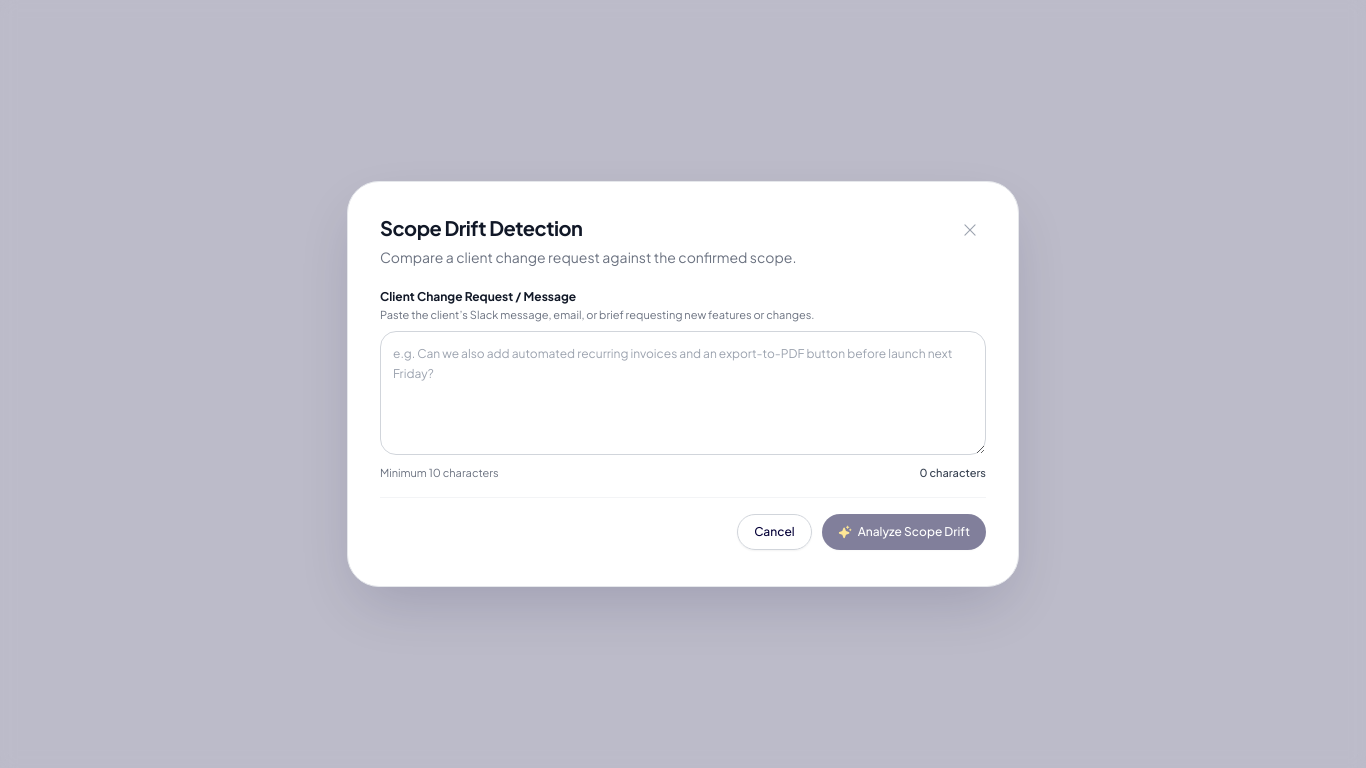
Test: DriftAnalysisModal › renders results with negotiation recommendation and confidence score
Type "Can we add automated recurring invoices and payment switcher?" into the text box.
click(683, 393); type("Can we add automated recurring invoices and payment switcher?")  # box [380,331,986,455]
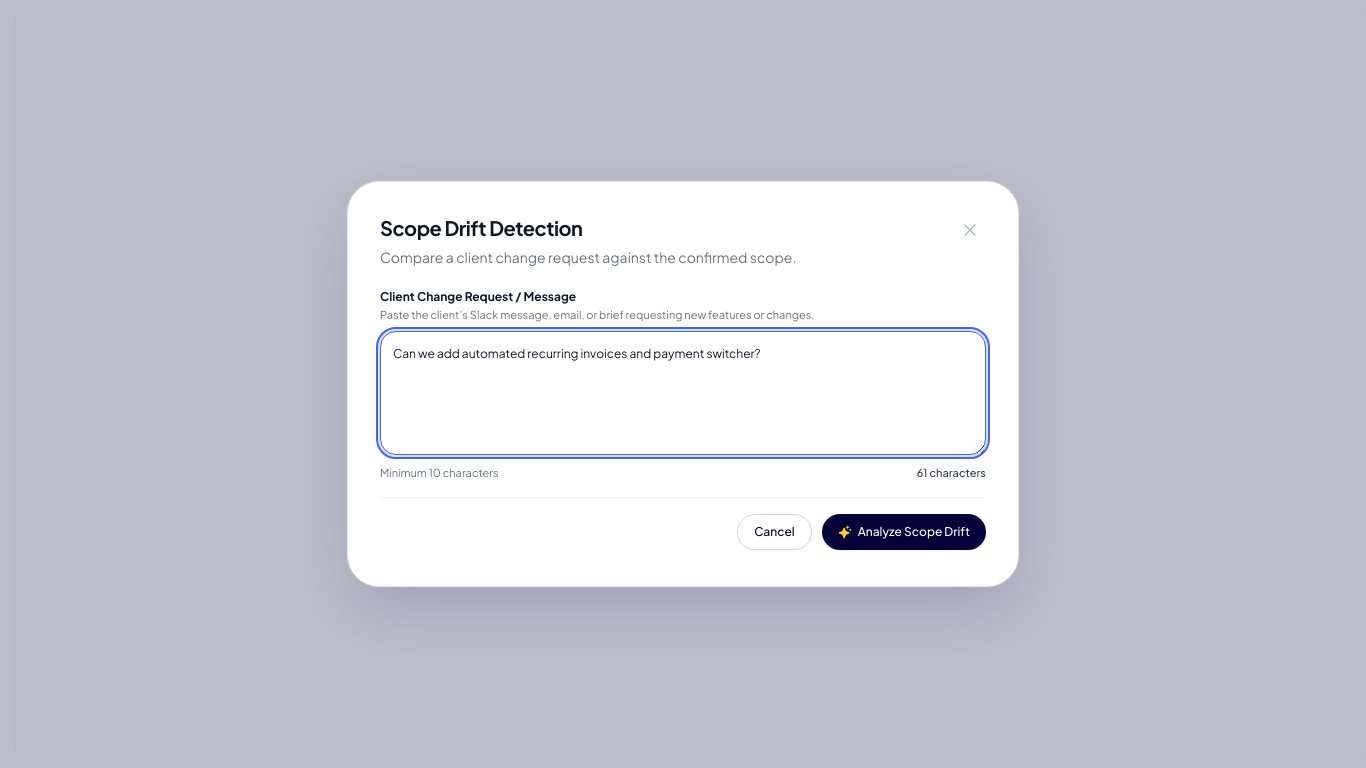
Click the button "Analyze Scope Drift".
click(904, 532)  # box [822,514,986,550]
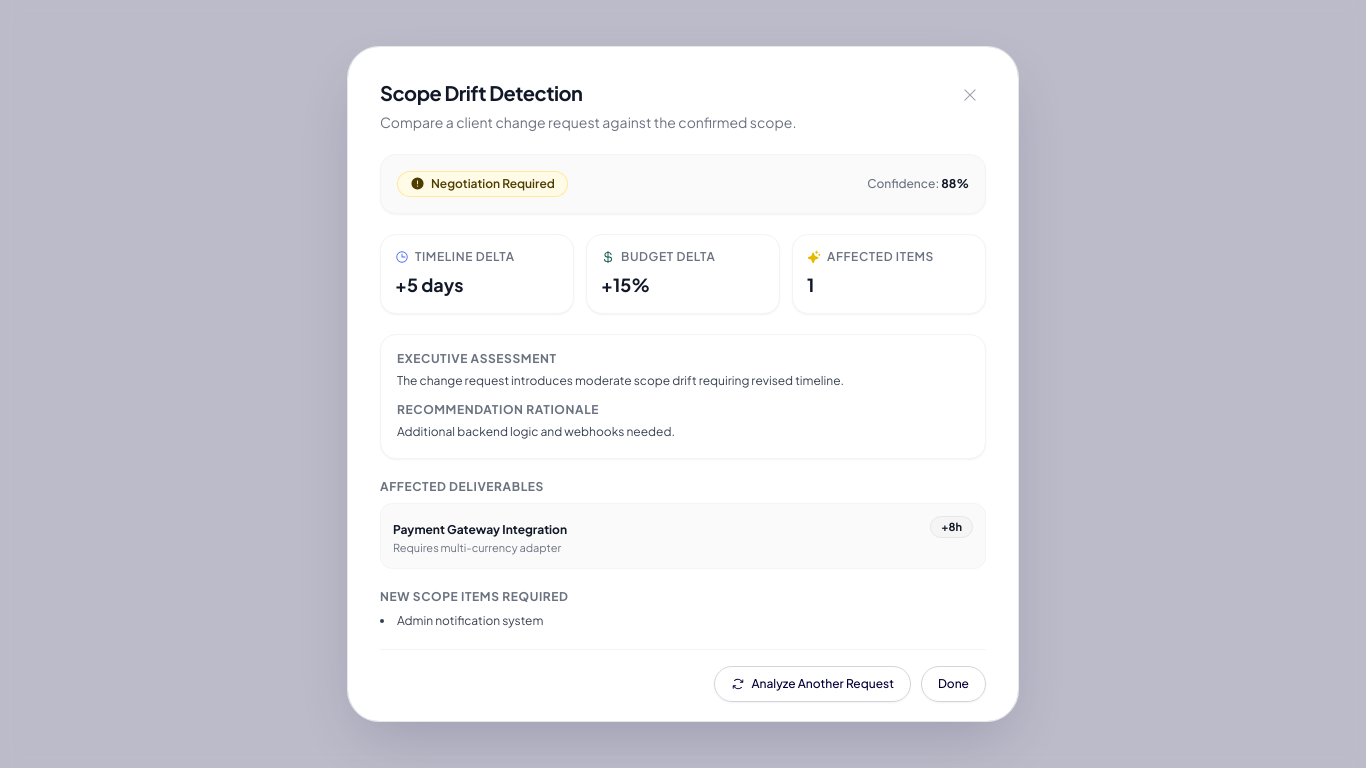
Check: the element with test id "drift-results" is shown, box [380,154,986,702]
Check: the text "Negotiation Required" is shown, box [397,171,568,197]
Check: the text "88%" is shown, box [941,176,969,191]
